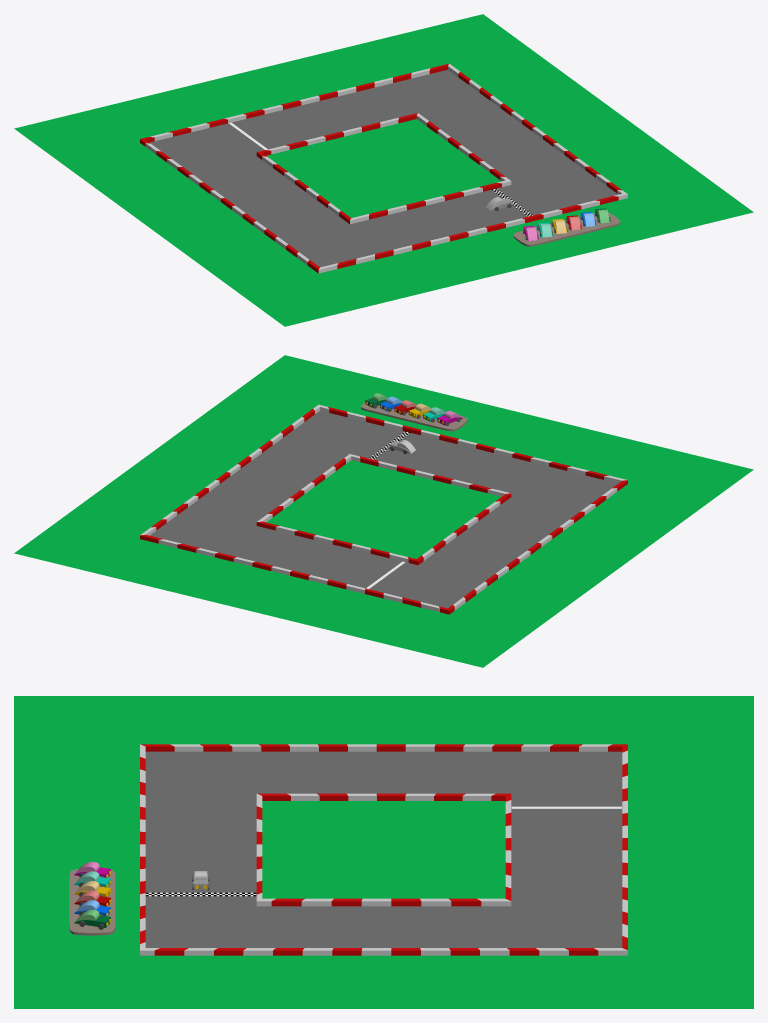
Rendered from Basic.fbx.
3 views of the same model, one above another, from view 1: azimuth 30°, elevation 25°; view 2: azimuth 150°, elevation 25°; view 3: azimuth 270°, elevation 25° (orthographic). The views are drawn at different scales.
Visible parts, largest first — view 1: Ground.001, Track.001, Island_00, VehicleRoad; view 2: Ground.001, Track.001, Island_00, VehicleRoad; view 3: Ground.001, Track.001, Island_00, VehicleRoad, CheckeredLine.
Boxes of the visible parts, x1,y1,x2,y2 form: Ground.001: (14, 14, 753, 326); Track.001: (150, 70, 617, 267); Island_00: (266, 119, 501, 217); VehicleRoad: (513, 212, 620, 246); Ground.001: (14, 355, 753, 667); Track.001: (150, 411, 617, 608); Island_00: (266, 460, 501, 558); VehicleRoad: (361, 397, 467, 431); Ground.001: (14, 696, 753, 1008); Track.001: (145, 751, 622, 947); Island_00: (262, 801, 505, 898); VehicleRoad: (69, 869, 115, 935); CheckeredLine: (146, 892, 256, 896).
Size of the model in its own units: 130 by 130 by 2.89.
